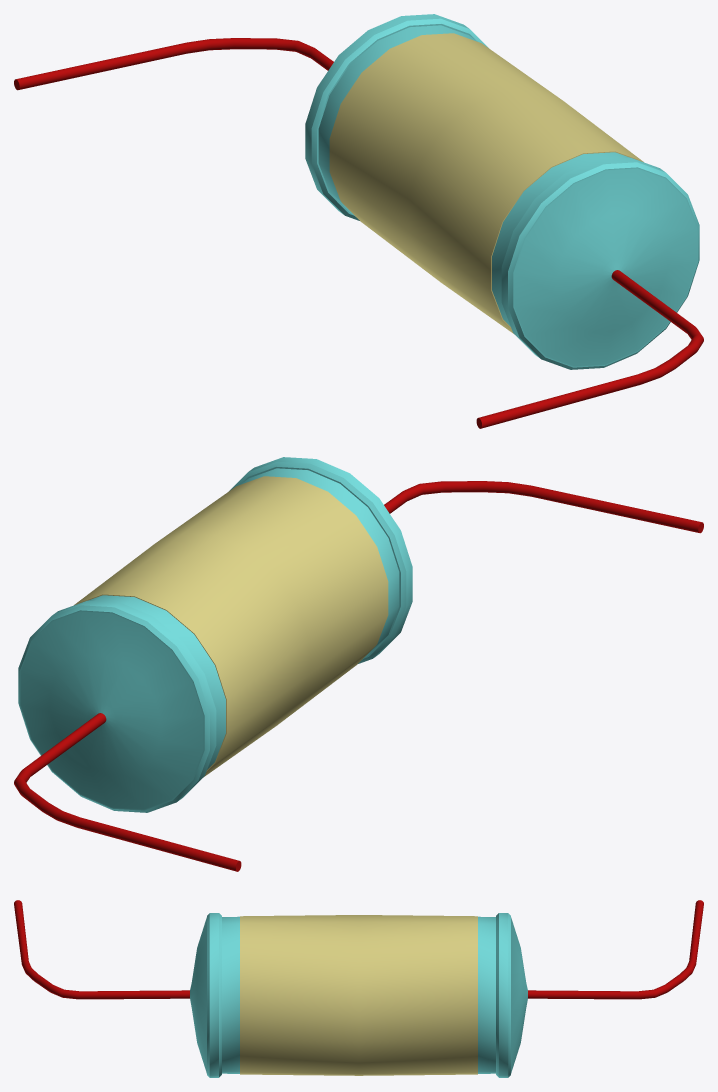
The model's file is elements019.fbx.
3 views of the same model, one above another, from view 1: azimuth 30°, elevation 25°; view 2: azimuth 150°, elevation 25°; view 3: azimuth 270°, elevation 25° (orthographic). The views are drawn at different scales.
Visible parts, largest first — view 1: element019_LOD0; view 2: element019_LOD0; view 3: element019_LOD0.
Part boxes in pixels (left/top/right/bottom): element019_LOD0: left=14, top=14, right=703, bottom=428; element019_LOD0: left=14, top=457, right=703, bottom=871; element019_LOD0: left=14, top=900, right=703, bottom=1077.
Size of what is drawn, in the model's own units: 0.8898 by 0.4944 by 2.06.
